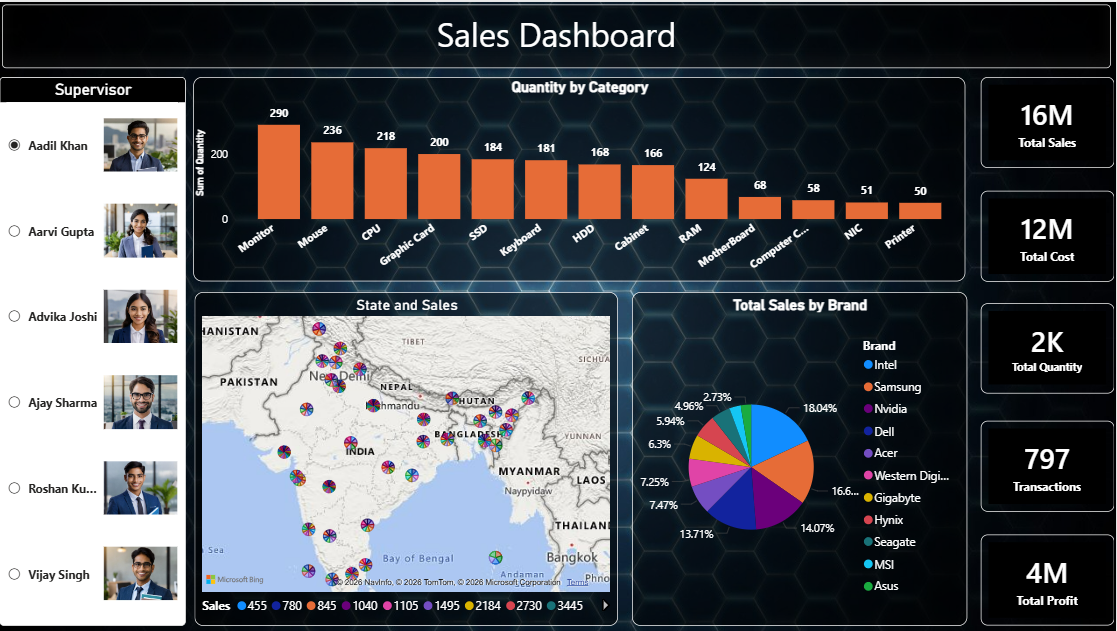

This screenshot's page, from the dashboard's own definition file:
{"tool":"powerbi","page":{"name":"Page 4","canvas":[1280,720],"ordinal":0},"visuals":[{"type":"textbox","box":[5,2.5,1267.5,72.5],"z":0},{"type":"columnChart","title":"Quantity by Category","fields":{"Category":["sales_data.Category"],"Y":["Sum(sales_data.Quantity)"]},"box":[224.9,86.1,882.5,233.8],"z":1000},{"type":"pieChart","title":"Total Sales by Brand","fields":{"Category":["sales_data.Brand"],"Y":["Sum(sales_data.Total_Sales)"]},"box":[725.3,331.3,382.9,381.4],"z":2000},{"type":"map","fields":{"Category":["state_data.State"],"Series":["sales_data.Sales"]},"box":[225.3,331.3,484.3,381.4],"z":3000},{"type":"cardVisual","fields":{"Data":["Sum(sales_data.Total_Sales)"]},"box":[1124.3,85.7,152.9,104.3],"z":4000},{"type":"cardVisual","fields":{"Data":["Sum(sales_data.Quantity)"]},"box":[1124.3,344.3,152.9,102.9],"z":5000},{"type":"cardVisual","fields":{"Data":["CountNonNull(sales_data.Order_Number)"]},"box":[1124.3,478.6,152.9,104.3],"z":6000},{"type":"cardVisual","fields":{"Data":["sales_data.Total Profit"]},"box":[1124.3,608.6,152.9,104.3],"z":7000},{"type":"cardVisual","fields":{"Data":["Sum(sales_data.Total_Cost)"]},"box":[1124.3,215.7,152.9,104.3],"z":8000},{"type":"listSlicer","fields":{"Values":["superviser.Supervisor"]},"box":[2.5,86.2,212.5,627.5],"z":9000}]}

Visuals, with their boxes in screenshot pixels (x1, y1, x2, y2), scaled from the page's 1280x720 canvas onto the 1117x631 screenshot:
textbox: 4 2 1110 66
"Quantity by Category" columnChart: 196 75 966 280
"Total Sales by Brand" pieChart: 633 290 967 625
map - state_data.State x sales_data.Sales: 197 290 619 625
cardVisual - Sum(sales_data.Total_Sales): 981 75 1115 167
cardVisual - Sum(sales_data.Quantity): 981 302 1115 392
cardVisual - CountNonNull(sales_data.Order_Number): 981 419 1115 511
cardVisual - sales_data.Total Profit: 981 533 1115 625
cardVisual - Sum(sales_data.Total_Cost): 981 189 1115 280
listSlicer - superviser.Supervisor: 2 76 188 625
